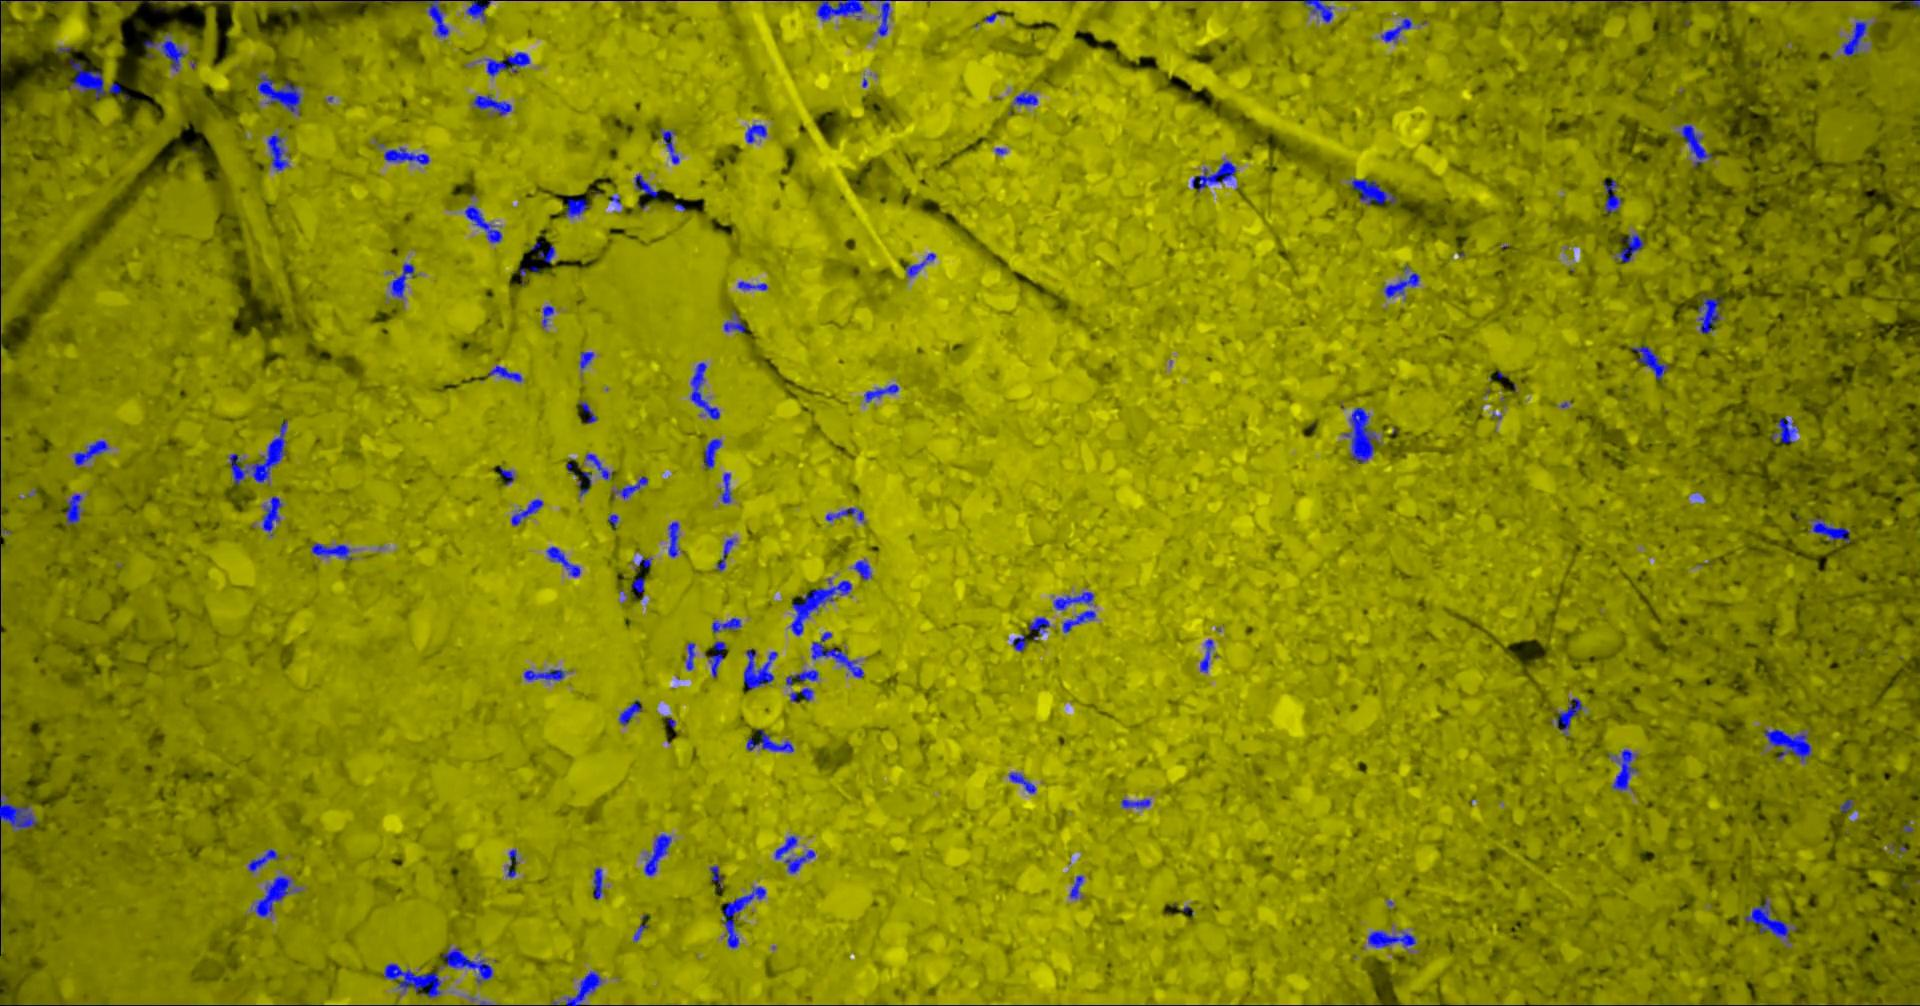ant: (338, 0, 450, 36), (789, 578, 851, 635), (817, 0, 890, 36), (723, 887, 764, 948), (810, 631, 863, 677), (1743, 897, 1796, 942), (69, 58, 121, 99), (438, 945, 491, 983), (382, 963, 441, 997), (257, 74, 301, 116), (254, 875, 300, 916), (1343, 406, 1377, 462), (690, 362, 719, 419), (1763, 728, 1811, 761), (143, 34, 185, 71), (463, 205, 502, 243), (743, 648, 777, 688), (1679, 123, 1710, 166), (0, 793, 37, 829), (1191, 160, 1236, 191), (564, 970, 602, 1005), (1630, 345, 1669, 379), (1350, 178, 1396, 205), (1608, 749, 1637, 790), (643, 833, 670, 875), (484, 51, 530, 76), (745, 728, 792, 752), (1383, 265, 1418, 297), (1807, 517, 1850, 542), (546, 546, 580, 575), (1556, 697, 1582, 734), (1697, 295, 1722, 333), (72, 439, 109, 465), (1841, 20, 1867, 56), (510, 498, 543, 525), (267, 133, 290, 171), (390, 262, 414, 297), (1368, 930, 1415, 948), (472, 94, 510, 116), (1614, 234, 1643, 262), (262, 495, 282, 535), (611, 476, 648, 498), (1380, 17, 1411, 42), (783, 848, 815, 873), (383, 147, 429, 164), (1062, 610, 1095, 633), (584, 453, 613, 479), (248, 848, 278, 873), (659, 127, 679, 163), (311, 542, 352, 560), (1053, 591, 1093, 608), (905, 251, 935, 276), (1771, 417, 1797, 443), (1302, 0, 1332, 22), (1603, 179, 1622, 213), (825, 507, 863, 523), (863, 384, 898, 401), (716, 537, 734, 572), (618, 699, 641, 725), (709, 640, 725, 677), (63, 493, 83, 525), (465, 0, 493, 22), (634, 173, 658, 197), (488, 365, 522, 381), (775, 835, 797, 859), (523, 668, 566, 681), (703, 438, 721, 469), (1008, 772, 1035, 793), (564, 198, 590, 217), (785, 669, 818, 685), (723, 310, 745, 332), (667, 521, 679, 558), (1029, 616, 1049, 639), (711, 617, 742, 633), (1199, 639, 1213, 672), (530, 243, 554, 262), (852, 558, 871, 579), (579, 400, 597, 423), (789, 687, 813, 702), (519, 265, 538, 285), (745, 124, 766, 142), (720, 473, 731, 503), (1013, 91, 1037, 105), (592, 868, 602, 899), (505, 848, 517, 876), (1069, 875, 1083, 898), (498, 465, 513, 485), (1120, 798, 1150, 808), (709, 865, 723, 887), (631, 575, 644, 598), (684, 641, 695, 669), (737, 281, 767, 290), (632, 923, 648, 941), (579, 351, 593, 368), (1012, 634, 1026, 652), (541, 305, 552, 326), (634, 558, 651, 570), (1839, 799, 1853, 810)
